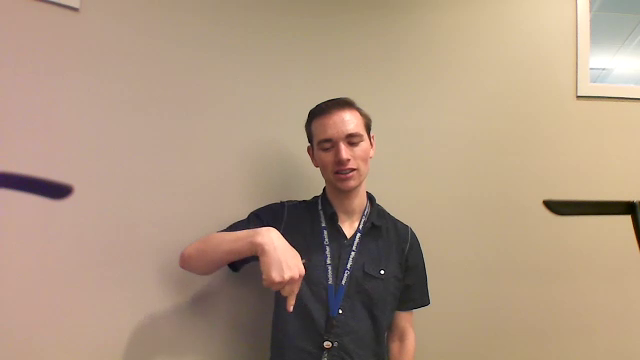down: (243, 218, 310, 318)
